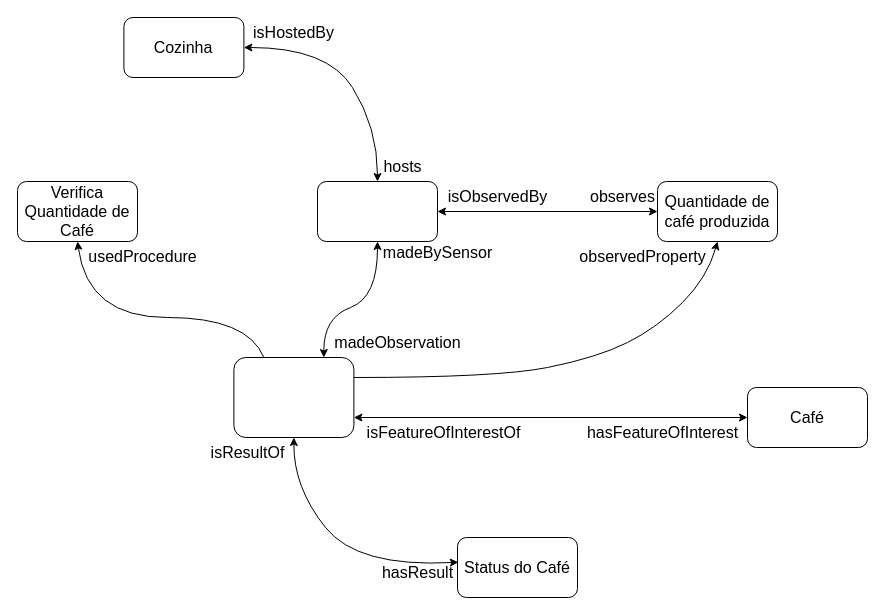
Some shapes in this 885 by 615 pixel diagram are drawn without their labels. The shapes that lost their labels are listed below. From the top down, each one's centre as x and y in pixels, then its label:
At [377,211]: "Cafeteira".
At [293,397]: "Café Está Pronto".
